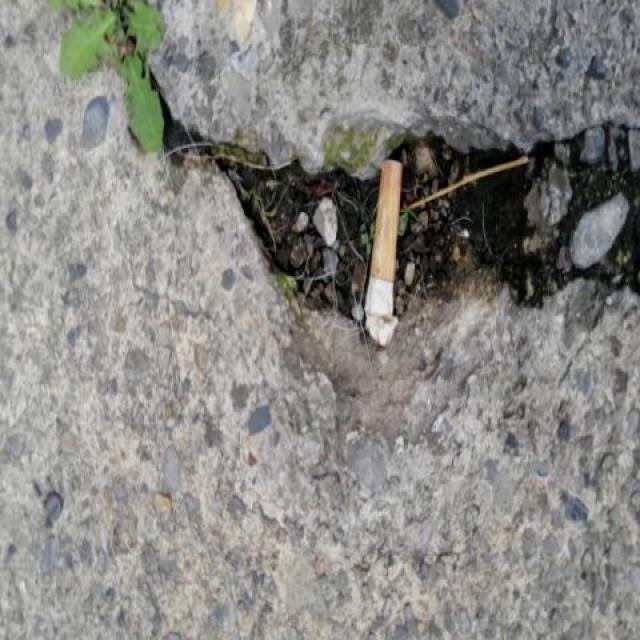non-organic waste: (360, 156, 405, 352)
